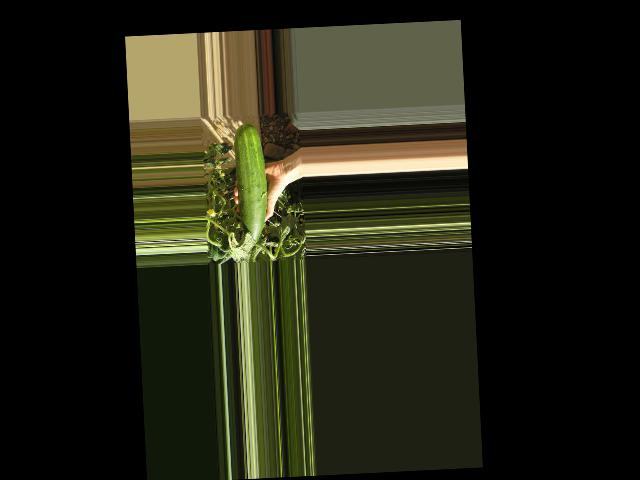cucumber: (233, 122, 269, 246)
